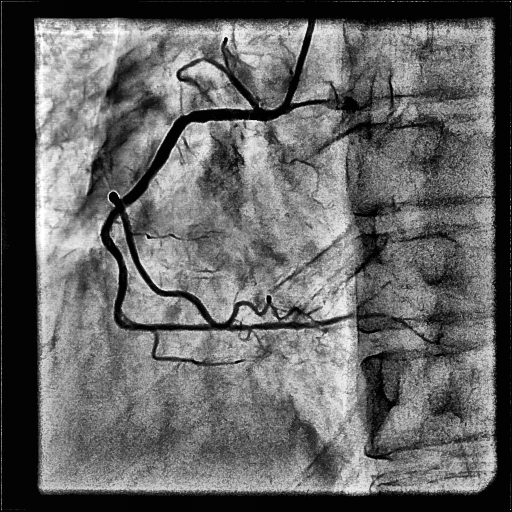pda: (292, 312, 436, 345)
rca: (101, 109, 293, 331)
